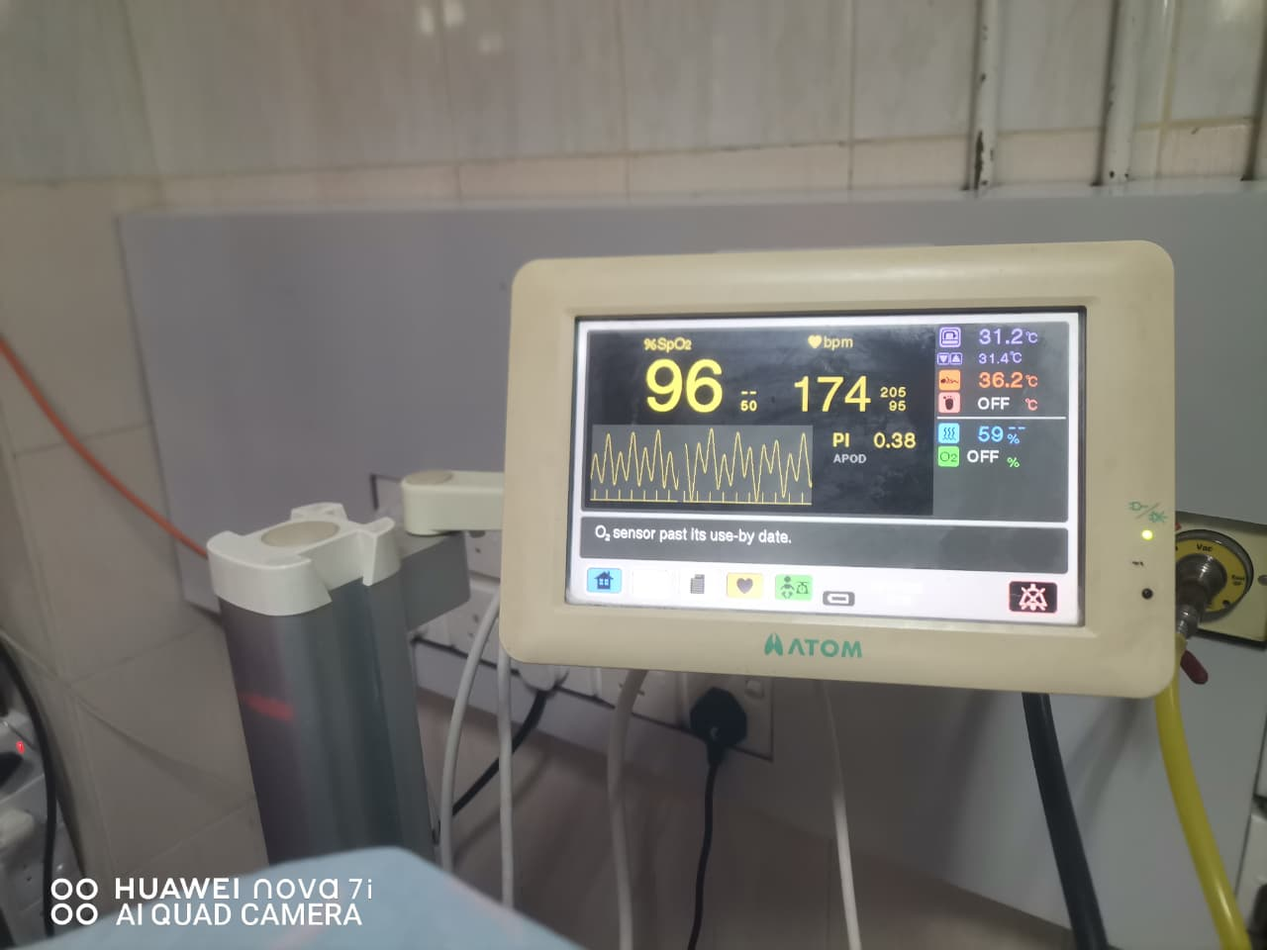air_temp_value: (975, 319, 1031, 351)
heart_rate_value: (781, 364, 883, 421)
humidity_value: (971, 421, 1007, 447)
skin_temp_value: (970, 364, 1025, 397)
spo2_value: (630, 349, 728, 417)
